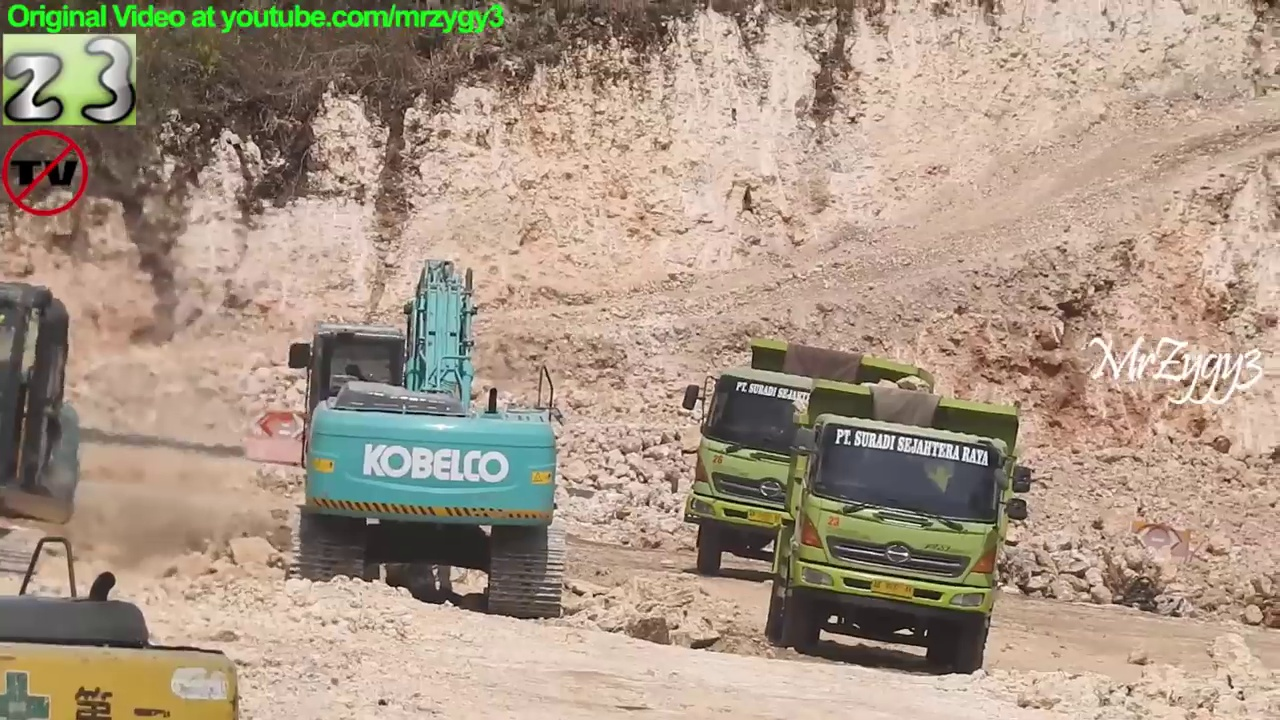excavator: (284, 248, 571, 627), (1, 528, 243, 720), (1, 274, 91, 575)
truck: (762, 374, 1038, 679), (678, 334, 946, 586)
